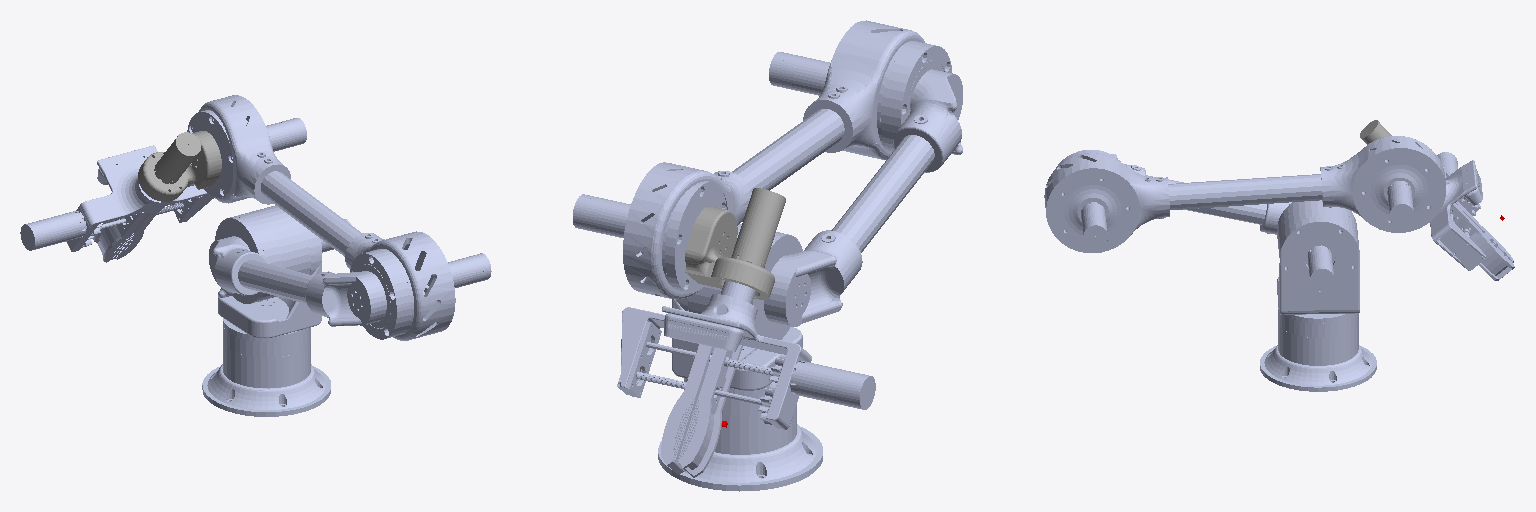
robot.urdf — new_manipulator:
<?xml version="1.0"?>
<!-- This URDF was automatically created by SolidWorks to URDF Exporter! Originally created by Stephen Brawner (brawner@gmail.com) 
     Commit Version 1.6.0-4-g7f85cfe  Build Version 1.6.7995.38578
     For more information, please see http//wiki.ros.org/sw_urdf_exporter -->
<robot name="new_manipulator">
  <link name="world"/>
    <joint name="base_joint" type="fixed">
       <parent link="world"/>
       <child link="base_link"/>
       <origin rpy="0 0 0" xyz="0.0 0.0 -0.17"/>
    </joint>
  <link
    name="base_link">
    <inertial>
      <origin
        xyz="-4.43954839834948E-07 1.95574043973523E-07 0.0440575497912232"
        rpy="0 0 0" />
      <mass
        value="1.34805797919581" />
      <inertia
        ixx="0.00183694205703787"
        ixy="5.0361464147788E-10"
        ixz="-5.92029157041244E-09"
        iyy="0.00183693853196773"
        iyz="4.98996166768538E-09"
        izz="0.0033883673477115" />
    </inertial>
    <visual>
      <origin
        xyz="0 0 0"
        rpy="0 0 0" />
      <geometry>
        <mesh
          filename="package://new_manipulator/meshes/base_link.STL" />
      </geometry>
      <material
        name="">
        <color
          rgba="0.792156862745098 0.819607843137255 0.933333333333333 1" />
      </material>
    </visual>
    <collision>
      <origin
        xyz="0 0 0"
        rpy="0 0 0" />
      <geometry>
        <mesh
          filename="package://new_manipulator/meshes/base_link.STL" />
      </geometry>
    </collision>
  </link>
  <link
    name="link_1">
    <inertial>
      <origin
        xyz="0.0110500885540994 0.000490304989948245 0.178917154368919"
        rpy="0 0 0" />
      <mass
        value="1.72791251451532" />
      <inertia
        ixx="0.00405909858433948"
        ixy="3.88748531333619E-05"
        ixz="-0.000594874773801282"
        iyy="0.00318681108482776"
        iyz="-2.64513859322088E-05"
        izz="0.00260490202469402" />
    </inertial>
    <visual>
      <origin
        xyz="0 0 0"
        rpy="0 0 0" />
      <geometry>
        <mesh
          filename="package://new_manipulator/meshes/link_1.STL" />
      </geometry>
      <material
        name="">
        <color
          rgba="0.792156862745098 0.819607843137255 0.933333333333333 1" />
      </material>
    </visual>
    <collision>
      <origin
        xyz="0 0 0"
        rpy="0 0 0" />
      <geometry>
        <mesh
          filename="package://new_manipulator/meshes/link_1.STL" />
      </geometry>
    </collision>
  </link>
  <joint
    name="joint_1"
    type="revolute">
    <origin
      xyz="0 0 0"
      rpy="0 0 0" />
    <parent
      link="base_link" />
    <child
      link="link_1" />
    <axis
      xyz="0 0 1" />
    <limit
      lower="-3.14"
      upper="3.14"
      effort="0"
      velocity="0" />
  </joint>
  <link
    name="link_2">
    <inertial>
      <origin
        xyz="-0.17027759464071 0.0403800042896438 0.00767279863845977"
        rpy="0 0 0" />
      <mass
        value="0.563585271283537" />
      <inertia
        ixx="0.000360703734186374"
        ixy="0.000111701659743082"
        ixz="1.41189843579195E-11"
        iyy="0.000804395250404438"
        iyz="-7.43125516863313E-12"
        izz="0.000954580102346034" />
    </inertial>
    <visual>
      <origin
        xyz="0 0 0"
        rpy="0 0 0" />
      <geometry>
        <mesh
          filename="package://new_manipulator/meshes/link_2.STL" />
      </geometry>
      <material
        name="">
        <color
          rgba="0.792156862745098 0.819607843137255 0.933333333333333 1" />
      </material>
    </visual>
    <collision>
      <origin
        xyz="0 0 0"
        rpy="0 0 0" />
      <geometry>
        <mesh
          filename="package://new_manipulator/meshes/link_2.STL" />
      </geometry>
    </collision>
  </link>
  <joint
    name="joint_2"
    type="revolute">
    <origin
      xyz="-0.0717291734504882 -0.00318836574273278 0.204740000000002"
      rpy="1.5707963267949 0 1.61521714206045" />
    <parent
      link="link_1" />
    <child
      link="link_2" />
    <axis
      xyz="0 0 -1" />
    <limit
      lower="0"
      upper="3.14"
      effort="0"
      velocity="0" />
  </joint>
  <link
    name="link_3">
    <inertial>
      <origin
        xyz="0.127319930649459 0.25216230451183 -0.0134589515038893"
        rpy="0 0 0" />
      <mass
        value="1.88012020867171" />
      <inertia
        ixx="0.00553245606571612"
        ixy="-9.76768114159608E-05"
        ixz="2.24362816489402E-06"
        iyy="0.00232907764676428"
        iyz="8.12545637190079E-05"
        izz="0.00388219252209916" />
    </inertial>
    <visual>
      <origin
        xyz="0 0 0"
        rpy="0 0 0" />
      <geometry>
        <mesh
          filename="package://new_manipulator/meshes/link_3.STL" />
      </geometry>
      <material
        name="">
        <color
          rgba="0.792156862745098 0.819607843137255 0.933333333333333 1" />
      </material>
    </visual>
    <collision>
      <origin
        xyz="0 0 0"
        rpy="0 0 0" />
      <geometry>
        <mesh
          filename="package://new_manipulator/meshes/link_3.STL" />
      </geometry>
    </collision>
  </link>
  <joint
    name="joint_3"
    type="revolute">
    <origin
      xyz="-0.340555167924376 0.0807599999999998 0.2056"
      rpy="1.57079632679489 1.52637551152934 0" />
    <parent
      link="link_2" />
    <child
      link="link_3" />
    <axis
      xyz="0.99901355780628 -0.0444062081159649 0" />
    <limit
      lower="-6.28"
      upper="0"
      effort="0"
      velocity="0" />
  </joint>
  <link
    name="link_4">
    <inertial>
      <origin
        xyz="-0.00286295911161408 -0.0033310528321473 -0.0155644150837439"
        rpy="0 0 0" />
      <mass
        value="0.274650886544684" />
      <inertia
        ixx="0.000206617997807796"
        ixy="-9.17161275843459E-06"
        ixz="2.87691440396262E-05"
        iyy="0.00020382708602932"
        iyz="3.34799417908772E-05"
        izz="0.000169631700790225" />
    </inertial>
    <visual>
      <origin
        xyz="0 0 0"
        rpy="0 0 0" />
      <geometry>
        <mesh
          filename="package://new_manipulator/meshes/link_4.STL" />
      </geometry>
      <material
        name="">
        <color
          rgba="0.698039215686274 0.698039215686274 0.698039215686274 1" />
      </material>
    </visual>
    <collision>
      <origin
        xyz="0 0 0"
        rpy="0 0 0" />
      <geometry>
        <mesh
          filename="package://new_manipulator/meshes/link_4.STL" />
      </geometry>
    </collision>
  </link>
  <joint
    name="joint_4"
    type="revolute">
    <origin
      xyz="0.225840625490469 0.450789374227888 -0.0240273169809807"
      rpy="-1.5707963267949 0 -1.61521714206045" />
    <parent
      link="link_3" />
    <child
      link="link_4" />
    <axis
      xyz="0 0 1" />
    <limit
      lower="-3.14"
      upper="3.14"
      effort="0"
      velocity="0" />
  </joint>
  <link
    name="link_5">
    <inertial>
      <origin
        xyz="-0.0161286511466324 -0.121540549336517 -0.120240046011032"
        rpy="0 0 0" />
      <mass
        value="0.793421245273042" />
      <inertia
        ixx="0.000671724275010425"
        ixy="-2.51602478102574E-06"
        ixz="5.71344672478053E-05"
        iyy="0.00234595437058804"
        iyz="-8.95524412371202E-05"
        izz="0.00245703255566249" />
    </inertial>
    <visual>
      <origin
        xyz="0 0 0"
        rpy="0 0 0" />
      <geometry>
        <mesh
          filename="package://new_manipulator/meshes/link_5.STL" />
      </geometry>
      <material
        name="">
        <color
          rgba="0.792156862745098 0.819607843137255 0.933333333333333 1" />
      </material>
    </visual>
    <collision>
      <origin
        xyz="0 0 0"
        rpy="0 0 0" />
      <geometry>
        <mesh
          filename="package://new_manipulator/meshes/link_5.STL" />
      </geometry>
    </collision>
  </link>
  <joint
    name="joint_5"
    type="revolute">
    <origin
      xyz="0.0406026824799595 0.0472515838404573 0.00419999999999965"
      rpy="0 1.52637551152934 0" />
    <parent
      link="link_4" />
    <child
      link="link_5" />
    <axis
      xyz="-0.0289407892178395 -0.758452389092401 -0.651085558279" />
    <limit
      lower="-3.14"
      upper="3.14"
      effort="0"
      velocity="0" />
  </joint>
  <link name="fake_link">
  <inertial>
    <origin xyz="0 0 0" rpy="0 0 0"/>
    <mass value="0.001"/>
    <inertia 
      ixx="0.000001" 
      ixy="0" 
      ixz="0" 
      iyy="0.000001" 
      iyz="0" 
      izz="0.000001"/>
  </inertial>
  <!-- Visual element - small, almost invisible cube -->
  <visual>
    <origin xyz="0 0 0" rpy="0 0 0"/>
    <geometry>
      <box size="0.005 0.005 0.005"/>  <!-- 5mm cube -->
    </geometry>
    <material name="fake_link_material">
      <color rgba="1.0 0.0 0.0 0.1"/>  <!-- Red with 10% opacity - almost invisible -->
    </material>
  </visual>
  
  <!-- Collision element - same small cube -->
  <collision>
    <origin xyz="0 0 0" rpy="0 0 0"/>
    <geometry>
      <box size="0.005 0.005 0.005"/>  <!-- Same 5mm cube -->
    </geometry>
  </collision>
</link>
  <joint name="fake_joint" type="revolute">
  <parent link="link_5"/>
  <child link="fake_link"/>
  <origin xyz="-0.06 -0.175 -0.2" rpy="-0.3 2.355 1.37"/>
  <axis xyz="0 0 1"/>  <!-- Yaw axis -->
  <limit lower="-3.14159" upper="3.14159" effort="0" velocity="0"/>
</joint>


  
  
  <link
    name="link_6">
    <inertial>
      <origin
        xyz="0.0108654286467037 8.14608749427626E-07 -0.0432633009650766"
        rpy="0 0 0" />
      <mass
        value="0.015648613105591" />
      <inertia
        ixx="1.3023223565484E-05"
        ixy="-3.28837477065242E-10"
        ixz="2.89260541241974E-06"
        iyy="1.37500799513683E-05"
        iyz="2.83301118109962E-10"
        izz="2.23321010587839E-06" />
    </inertial>
    <visual>
      <origin
        xyz="0 0 0"
        rpy="0 0 0" />
      <geometry>
        <mesh
          filename="package://new_manipulator/meshes/link_6.STL" />
      </geometry>
      <material
        name="">
        <color
          rgba="0.792156862745098 0.819607843137255 0.933333333333333 1" />
      </material>
    </visual>
    <collision>
      <origin
        xyz="0 0 0"
        rpy="0 0 0" />
      <geometry>
        <mesh
          filename="package://new_manipulator/meshes/link_6.STL" />
      </geometry>
    </collision>
  </link>
  <joint
    name="joint_6"
    type="revolute">
    <origin
      xyz="-0.00126816406153663 -0.143195811060646 -0.123111459477163"
      rpy="-3.14159265358979 1.28032965574779 3.14159265358979" />
    <parent
      link="link_5" />
    <child
      link="link_6" />
    <axis
      xyz="0.243570815678046 0 -0.969883115509251" />
    <limit
      lower="0"
      upper="10"
      effort="0"
      velocity="0" />
  </joint>
  <link
    name="link_7">
    <inertial>
      <origin
        xyz="-0.0090100621942418 -6.67420022387732E-07 -0.0358850579570688"
        rpy="0 0 0" />
      <mass
        value="0.0157888075275909" />
      <inertia
        ixx="1.29943702003999E-05"
        ixy="6.88853386935521E-11"
        ixz="-2.88493495007699E-06"
        iyy="1.37197558455964E-05"
        iyz="2.55607088581921E-10"
        izz="2.23295306978442E-06" />
    </inertial>
    <visual>
      <origin
        xyz="0 0 0"
        rpy="0 0 0" />
      <geometry>
        <mesh
          filename="package://new_manipulator/meshes/link_7.STL" />
      </geometry>
      <material
        name="">
        <color
          rgba="0.792156862745098 0.819607843137255 0.933333333333333 1" />
      </material>
    </visual>
    <collision>
      <origin
        xyz="0 0 0"
        rpy="0 0 0" />
      <geometry>
        <mesh
          filename="package://new_manipulator/meshes/link_7.STL" />
      </geometry>
    </collision>
  </link>
  <joint
    name="joint_7"
    type="revolute">
    <origin
      xyz="-0.00228109168416107 -0.16974164467888 -0.145899454016928"
      rpy="3.14159265358979 -1.28032965574779 0" />
    <parent
      link="link_5" />
    <child
      link="link_7" />
    <axis
      xyz="0.243570815678046 0 0.969883115509251" />
    <limit
      lower="-10"
      upper="0"
      effort="0"
      velocity="0" />
    <mimic
      joint="joint_6"
      multiplier="-1"
      offset="0" />
  </joint>
  <link
    name="link_8">
    <inertial>
      <origin
        xyz="0.0358256039708998 -0.0445043988409441 0.0143492587166081"
        rpy="0 0 0" />
      <mass
        value="0.0572194405110706" />
      <inertia
        ixx="5.62419958813598E-05"
        ixy="3.59880864635103E-05"
        ixz="-1.17441450058187E-05"
        iyy="4.09971162464738E-05"
        iyz="1.25588916053587E-05"
        izz="8.76354462681182E-05" />
    </inertial>
    <visual>
      <origin
        xyz="0 0 0"
        rpy="0 0 0" />
      <geometry>
        <mesh
          filename="package://new_manipulator/meshes/link_8.STL" />
      </geometry>
      <material
        name="">
        <color
          rgba="0.792156862745098 0.819607843137255 0.933333333333333 1" />
      </material>
    </visual>
    <collision>
      <origin
        xyz="0 0 0"
        rpy="0 0 0" />
      <geometry>
        <mesh
          filename="package://new_manipulator/meshes/link_8.STL" />
      </geometry>
    </collision>
  </link>
  <joint
    name="joint_8"
    type="prismatic">
    <origin
      xyz="-0.00126816406153663 -0.143195811060646 -0.123111459477163"
      rpy="-3.14159265358979 1.28032965574779 3.14159265358979" />
    <parent
      link="link_5" />
    <child
      link="link_8" />
    <axis
      xyz="0.243570815678046 0 -0.969883115509251" />
    <limit
      lower="-0.042"
      upper="0"
      effort="0"
      velocity="0" />
    <mimic
      joint="joint_6"
      multiplier="-0.0042"
      offset="0" />
  </joint>
  <link
    name="link_9">
    <inertial>
      <origin
        xyz="-0.0154067548464904 0.0147289202001188 -0.00938576214369419"
        rpy="0 0 0" />
      <mass
        value="0.053232809936532" />
      <inertia
        ixx="4.77067601179768E-05"
        ixy="3.32704891885413E-05"
        ixz="6.1555611459591E-06"
        iyy="3.6515124816134E-05"
        iyz="-5.53805479239937E-06"
        izz="8.06111901253873E-05" />
    </inertial>
    <visual>
      <origin
        xyz="0 0 0"
        rpy="0 0 0" />
      <geometry>
        <mesh
          filename="package://new_manipulator/meshes/link_9.STL" />
      </geometry>
      <material
        name="">
        <color
          rgba="0.792156862745098 0.819607843137255 0.933333333333333 1" />
      </material>
    </visual>
    <collision>
      <origin
        xyz="0 0 0"
        rpy="0 0 0" />
      <geometry>
        <mesh
          filename="package://new_manipulator/meshes/link_9.STL" />
      </geometry>
    </collision>
  </link>
  <joint
    name="joint_9"
    type="prismatic">
    <origin
      xyz="-0.00228109168416107 -0.16974164467888 -0.145899454016928"
      rpy="3.14159265358979 -1.28032965574779 0" />
    <parent
      link="link_5" />
    <child
      link="link_9" />
    <axis
      xyz="0.243570815678046 0 0.969883115509251" />
    <limit
      lower="-0.042"
      upper="0"
      effort="0"
      velocity="0" />
    <mimic
      joint="joint_6"
      multiplier="-0.0042"
      offset="0" />
  </joint>
  
  
   <!-- ROS2 CONTROL CONFIGURATION -->
  
  <ros2_control name="GazeboSystem" type="system">
  <hardware>
    <plugin>gazebo_ros2_control/GazeboSystem</plugin>
  </hardware>
  <joint name="joint_1">
     <command_interface name="position"/>
     <state_interface name="position">
       <param name="initial_value">0.0</param>
      </state_interface>
      <state_interface name="velocity"/>
   </joint>
   
   <joint name="joint_2">
     <command_interface name="position"/>
     <state_interface name="position">
       <param name="initial_value">0.0</param>
      </state_interface>
      <state_interface name="velocity"/>
   </joint>
       
  <joint name="joint_3">
     <command_interface name="position"/>
     <state_interface name="position">
       <param name="initial_value">0.0</param>
      </state_interface>
      <state_interface name="velocity"/>
   </joint>
   
   <joint name="joint_4">
     <command_interface name="position"/>
     <state_interface name="position">
       <param name="initial_value">-2.39</param>
      </state_interface>
      <state_interface name="velocity"/>
   </joint>
   
   <joint name="joint_5">
     <command_interface name="position"/>
     <state_interface name="position">
       <param name="initial_value">0.0</param>
      </state_interface>
      <state_interface name="velocity"/>
   </joint>
  <joint name="fake_joint">
     <command_interface name="position"/>
     <state_interface name="position">
       <param name="initial_value">0.0</param>
      </state_interface>
      <state_interface name="velocity"/>
   </joint>
   
   <joint name="joint_6">
     <command_interface name="position"/>
     <state_interface name="position">
       <param name="initial_value">0.0</param>
      </state_interface>
      <state_interface name="velocity"/>
   </joint>
   
   <joint name="joint_7">
     <!-- Remove command interface for mimic joint -->
     <state_interface name="position">
       <param name="initial_value">0.0</param>
     </state_interface>
     <param name="mimic">joint_6</param>
     <param name="multiplier">-1</param>
     <state_interface name="velocity"/>
   </joint>
   
   <joint name="joint_8">
     <!-- Remove command interface for mimic joint -->
     <state_interface name="position">
       <param name="initial_value">0.0</param>
     </state_interface>
     <param name="mimic">joint_6</param>
     <param name="multiplier">-0.01</param>
     <state_interface name="velocity"/>
   </joint>
   
   <joint name="joint_9">
     <!-- Remove command interface for mimic joint -->
     <state_interface name="position">
       <param name="initial_value">0.0</param>
     </state_interface>
     <param name="mimic">joint_6</param>
     <param name="multiplier">-0.01</param>
     <state_interface name="velocity"/>
   </joint>
</ros2_control>

<!-- GAZEBO PLUGINS -->

<gazebo>
    <plugin filename="libgazebo_ros2_control.so" name="gazebo_ros2_control">
<parameters>/home/devika/new_manipulator/src/new_manipulator/config/controller_manager.yaml</parameters>
<controller_manager_node_name>controller_manager</controller_manager_node_name>
    <ros>
      <namespace>/</namespace>
    </ros>
    </plugin>
</gazebo>
</robot>

--- Render facts (derived) ---
3 views of the same robot in one strip: view 1: azimuth 30°, elevation 25°; view 2: azimuth 150°, elevation 25°; view 3: azimuth 270°, elevation 25° (orthographic).
Model new_manipulator with 12 links and 11 joints (8 revolute, 2 prismatic, 1 fixed), rooted at world, posed all joints at 0.
Links seen in each view (by area): view 1: link_3, base_link, link_2, link_1, link_5, link_4, link_9; view 2: link_3, link_2, link_5, base_link, link_4, link_1, link_9, link_8, link_7, link_6; view 3: link_3, link_1, base_link, link_5, link_2, link_8.
Link boxes in pixels (<box>): link_3: <box>187,95,491,340</box>; base_link: <box>202,318,330,416</box>; link_2: <box>209,234,390,328</box>; link_1: <box>215,205,350,338</box>; link_5: <box>20,145,214,251</box>; link_4: <box>138,131,221,201</box>; link_9: <box>93,212,147,262</box>; link_3: <box>573,20,952,299</box>; link_2: <box>760,60,962,331</box>; link_5: <box>617,281,875,429</box>; base_link: <box>658,378,822,491</box>; link_4: <box>685,188,785,299</box>; link_1: <box>672,224,802,390</box>; link_9: <box>677,345,742,477</box>; link_8: <box>661,344,714,474</box>; link_7: <box>636,368,775,424</box>; link_6: <box>646,342,785,385</box>; link_3: <box>1044,136,1445,252</box>; link_1: <box>1277,200,1359,314</box>; base_link: <box>1260,304,1376,391</box>; link_5: <box>1430,152,1485,270</box>; link_2: <box>1111,154,1291,234</box>; link_8: <box>1450,203,1514,280</box>.
Bounding box of the posed robot: 0.4165 × 0.7068 × 0.38 m (x, y, z).
Meshes: 10 distinct files referenced, 10 mesh visuals loaded (10 binary STL).
